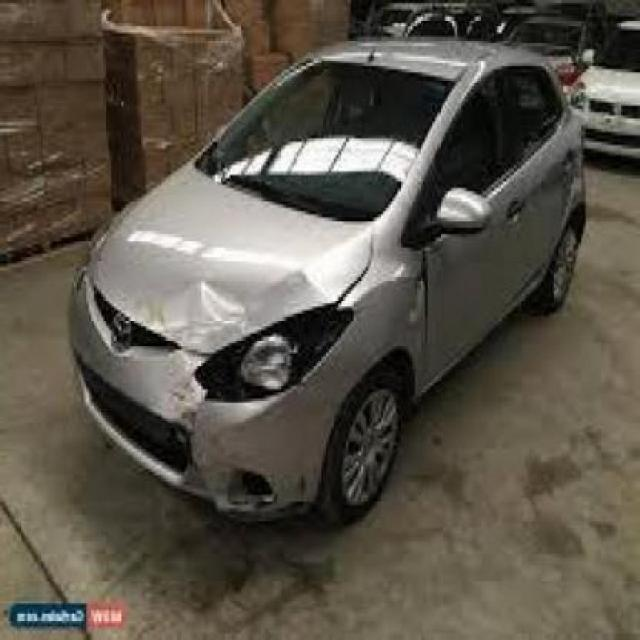damage: (159, 267, 339, 514), (409, 250, 433, 354)
